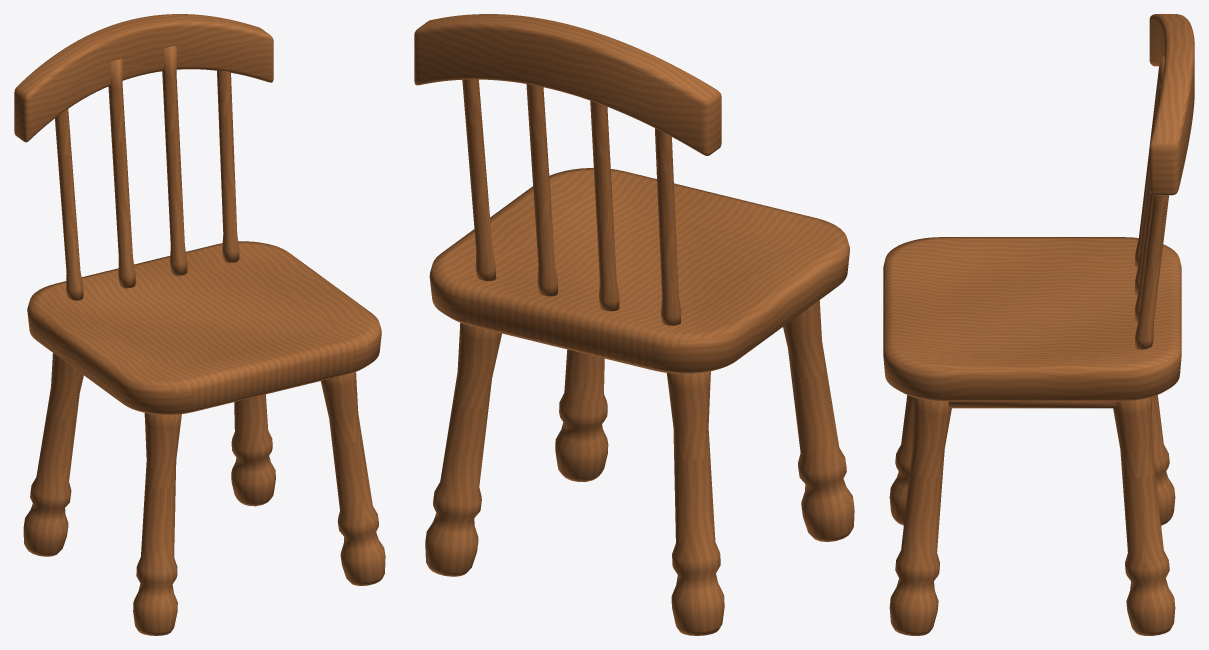
File: chair_oak_v01.glb
3 renders of one model, left to right at view 1: azimuth 30°, elevation 25°; view 2: azimuth 150°, elevation 25°; view 3: azimuth 270°, elevation 25°, orthographic. The views are drawn at different scales.
Visible parts, largest first — view 1: 01 • rounded thick seat, 05 • broad arched crest, 02 • leg (-1, -1), 02 • leg (1, -1), 02 • leg (-1, 1), 02 • leg (1, 1), 04 • back spindle 3, 04 • back spindle 2, 04 • back spindle 4, 04 • back spindle 1; view 2: 01 • rounded thick seat, 05 • broad arched crest, 02 • leg (-1, 1), 02 • leg (1, 1), 02 • leg (-1, -1), 02 • leg (1, -1), 04 • back spindle 3, 04 • back spindle 2, 04 • back spindle 4, 04 • back spindle 1; view 3: 01 • rounded thick seat, 02 • leg (1, 1), 02 • leg (1, -1), 05 • broad arched crest, 04 • back spindle 4, 02 • leg (-1, -1), 02 • leg (-1, 1), 03 • side apron 1, 04 • back spindle 2, 04 • back spindle 3, 04 • back spindle 1.
Part boxes in pixels (x1=…): 01 • rounded thick seat: x1=27, y1=241, x2=381, y2=414; 05 • broad arched crest: x1=14, y1=14, x2=273, y2=142; 02 • leg (-1, -1): x1=133, y1=413, x2=181, y2=635; 02 • leg (1, -1): x1=320, y1=372, x2=385, y2=585; 02 • leg (-1, 1): x1=23, y1=353, x2=83, y2=556; 02 • leg (1, 1): x1=231, y1=394, x2=275, y2=506; 04 • back spindle 3: x1=162, y1=45, x2=187, y2=275; 04 • back spindle 2: x1=108, y1=58, x2=135, y2=288; 04 • back spindle 4: x1=217, y1=71, x2=239, y2=262; 04 • back spindle 1: x1=55, y1=109, x2=83, y2=300; 01 • rounded thick seat: x1=429, y1=168, x2=849, y2=373; 05 • broad arched crest: x1=414, y1=14, x2=721, y2=155; 02 • leg (-1, 1): x1=666, y1=371, x2=724, y2=635; 02 • leg (1, 1): x1=425, y1=322, x2=501, y2=576; 02 • leg (-1, -1): x1=783, y1=300, x2=854, y2=541; 02 • leg (1, -1): x1=555, y1=349, x2=608, y2=481; 04 • back spindle 3: x1=526, y1=84, x2=557, y2=296; 04 • back spindle 2: x1=590, y1=100, x2=619, y2=311; 04 • back spindle 4: x1=462, y1=79, x2=496, y2=280; 04 • back spindle 1: x1=655, y1=128, x2=681, y2=325; 01 • rounded thick seat: x1=883, y1=237, x2=1181, y2=401; 02 • leg (1, 1): x1=1113, y1=397, x2=1175, y2=635; 02 • leg (1, -1): x1=889, y1=397, x2=951, y2=635; 05 • broad arched crest: x1=1149, y1=14, x2=1194, y2=195; 04 • back spindle 4: x1=1134, y1=195, x2=1168, y2=349; 02 • leg (-1, -1): x1=889, y1=395, x2=913, y2=525; 02 • leg (-1, 1): x1=1152, y1=395, x2=1175, y2=525; 03 • side apron 1: x1=948, y1=401, x2=1116, y2=408; 04 • back spindle 2: x1=1134, y1=53, x2=1164, y2=294; 04 • back spindle 3: x1=1134, y1=82, x2=1162, y2=322; 04 • back spindle 1: x1=1134, y1=66, x2=1159, y2=267.
Bounding box in the file's own units: 0.4756 × 0.8765 × 0.4646.
Materials: 1 (1 with a texture image).
